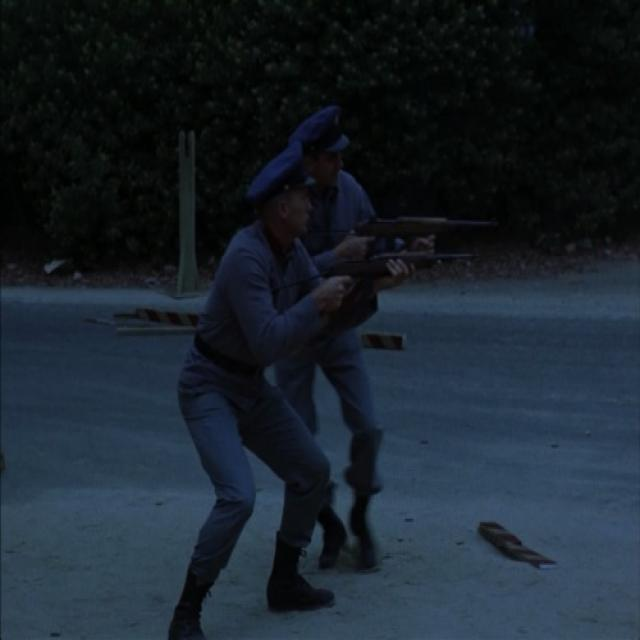rifle: (326, 247, 481, 287), (356, 214, 500, 248)
